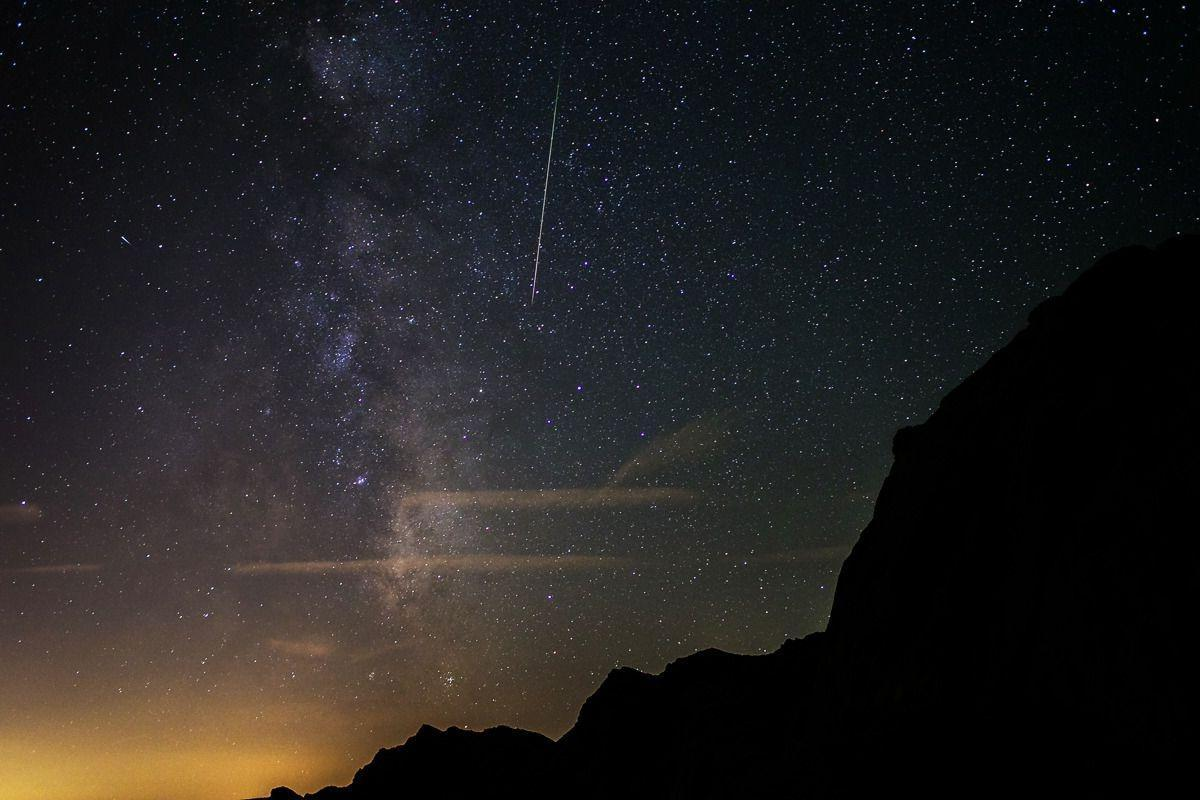meteorite: (521, 68, 561, 318), (109, 232, 142, 249)
